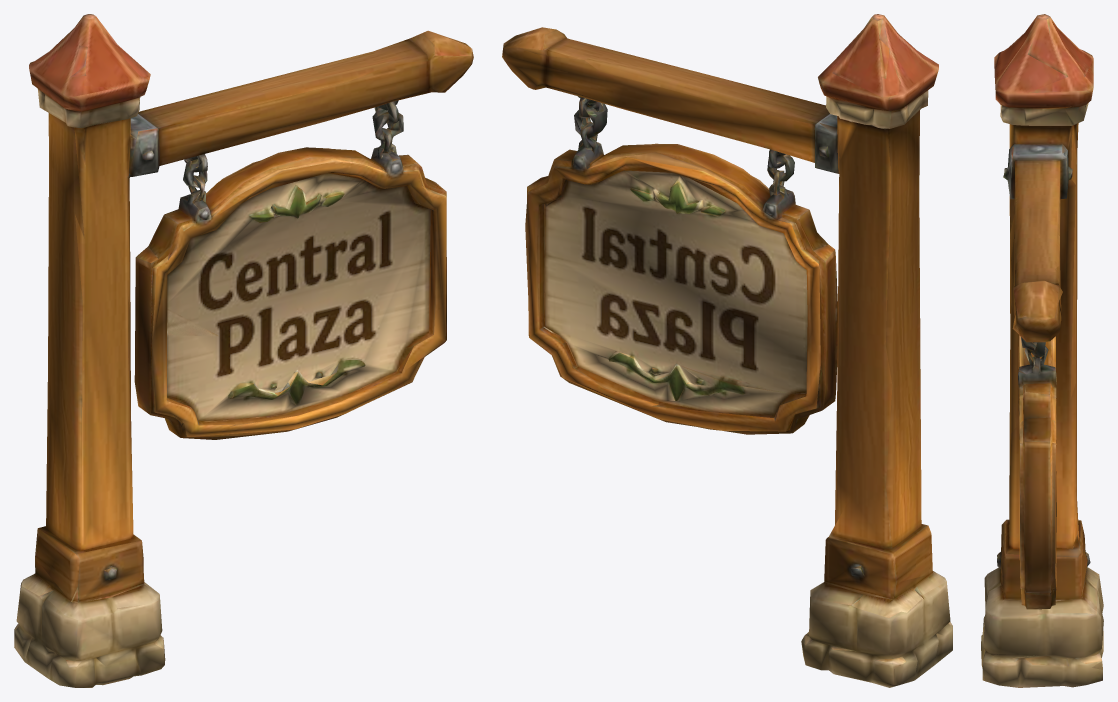
Rendered from sign-plaza.glb.
3 renders of one model, left to right at view 1: azimuth 30°, elevation 25°; view 2: azimuth 150°, elevation 25°; view 3: azimuth 270°, elevation 25°, orthographic.
Visible parts, largest first — view 1: Mesh1.0; view 2: Mesh1.0; view 3: Mesh1.0.
Boxes of the visible parts, bbox=[...] form: Mesh1.0: bbox=[14, 14, 473, 687]; Mesh1.0: bbox=[502, 14, 952, 687]; Mesh1.0: bbox=[981, 14, 1103, 687].
Size of the model in its own units: 1.32 by 1.9 by 0.326.
Materials: 1 (1 with a texture image).
